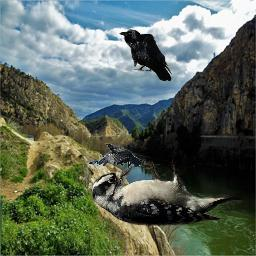Crow: (119, 29, 173, 82), (86, 143, 141, 169)
Woodpecker: (92, 159, 243, 226)
